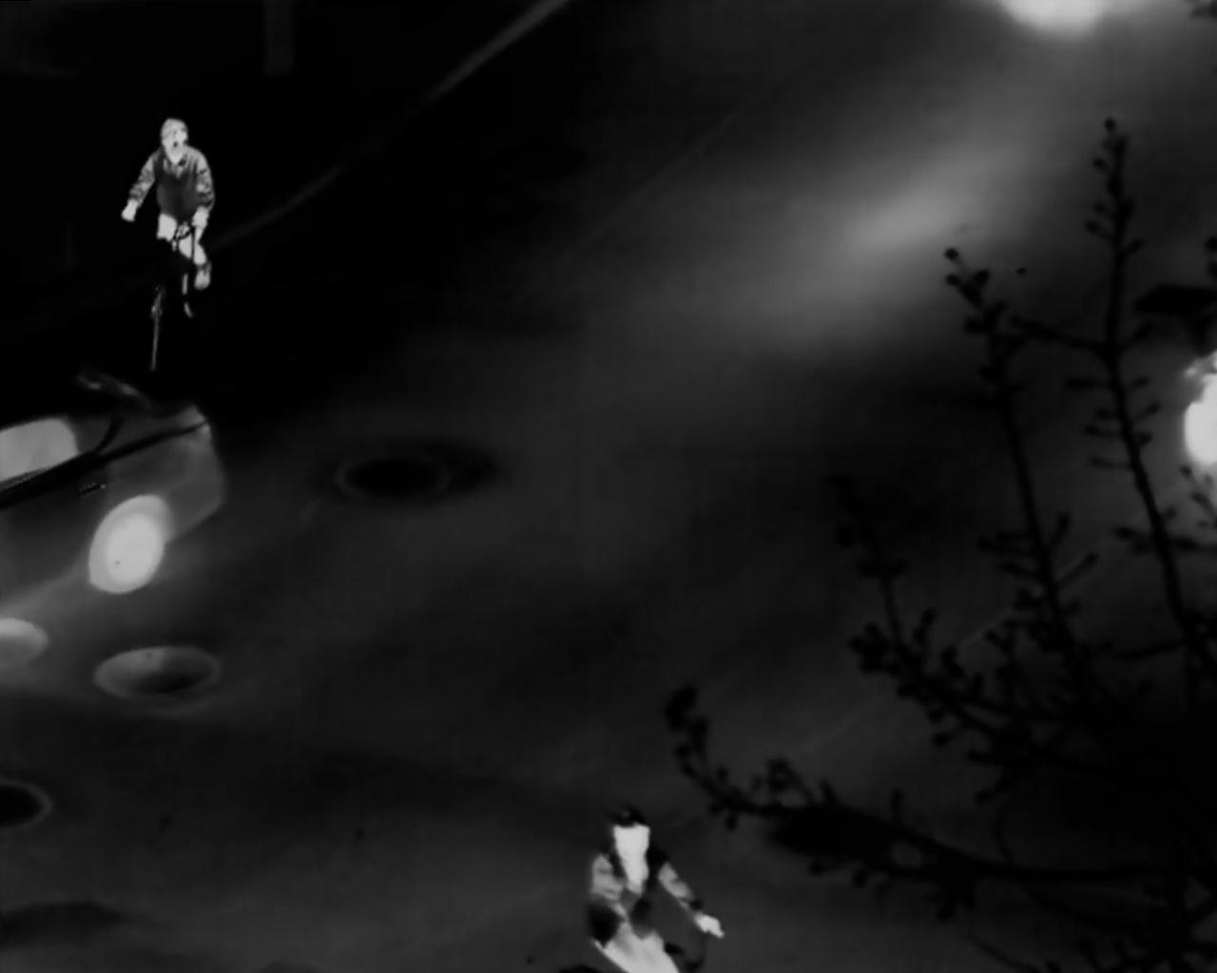person: (586, 817, 724, 973), (123, 116, 230, 304)
